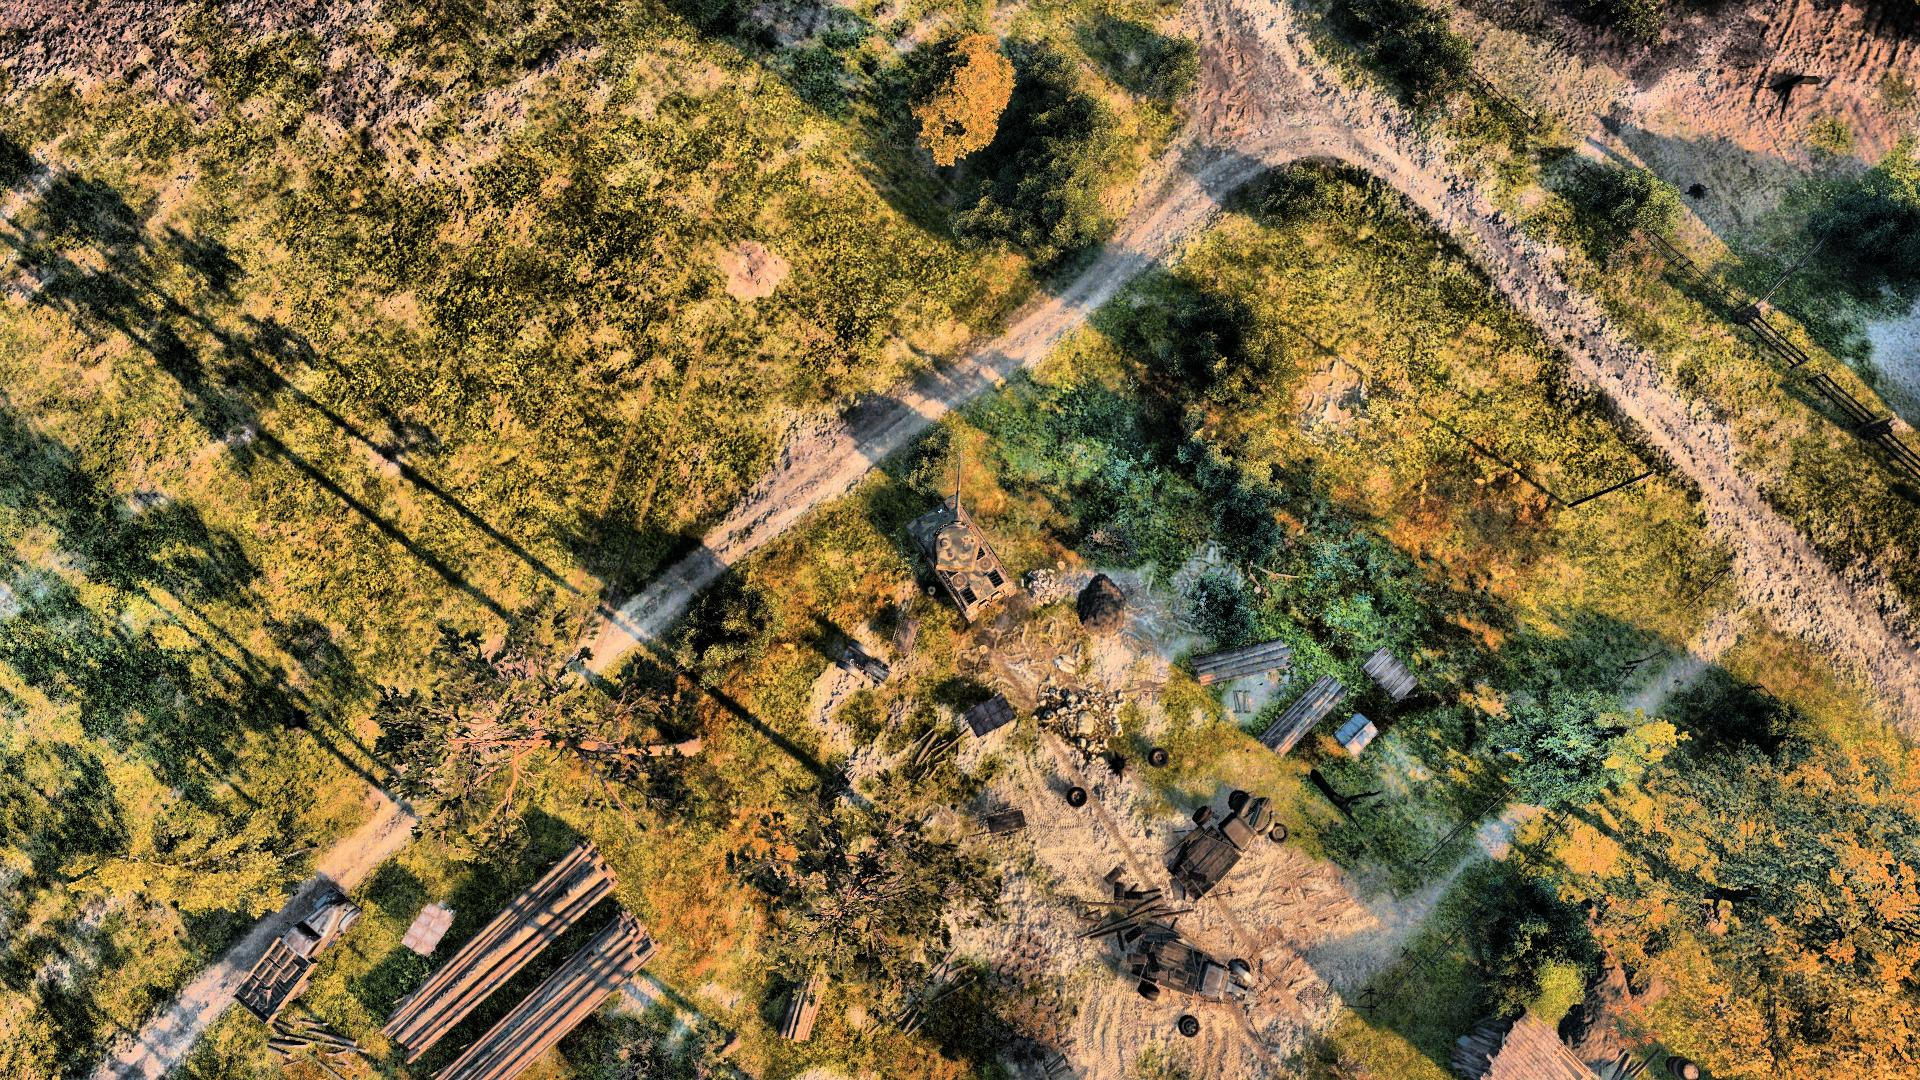military-vehicle: (909, 448, 1011, 620)
